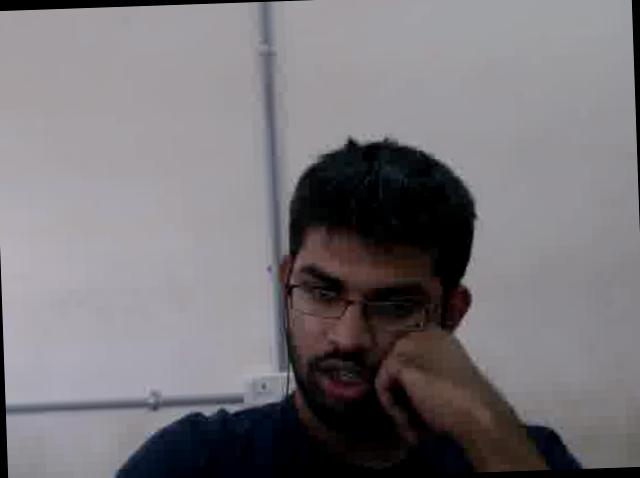bosan: (289, 230, 450, 418)
